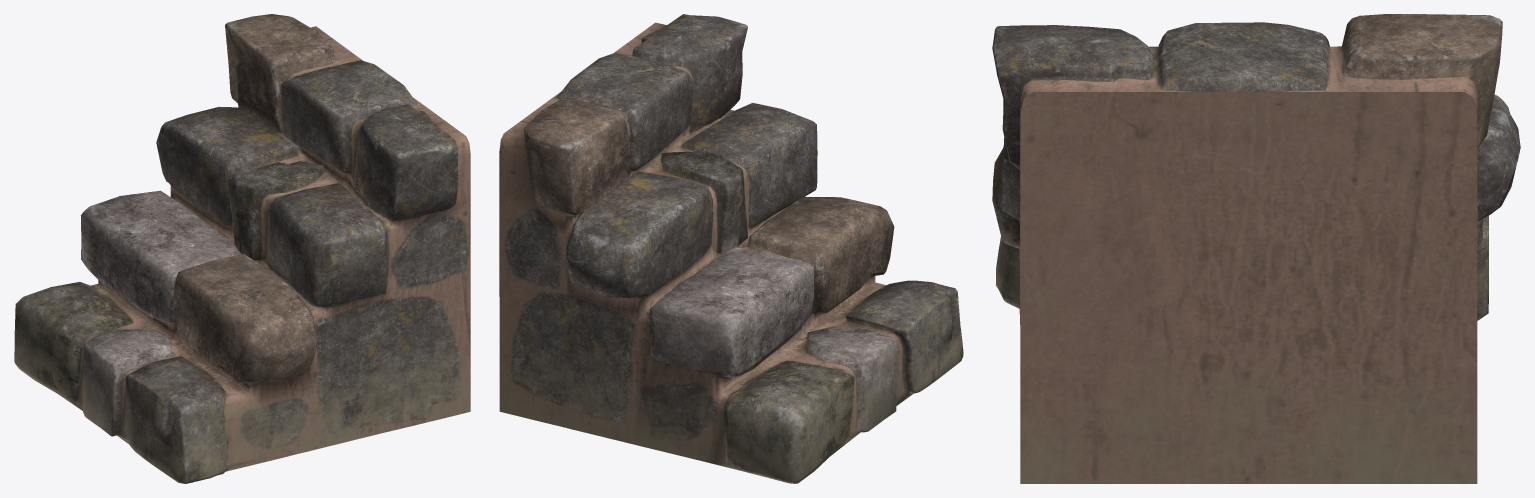
The model's file is SM_JWD_Stair.fbx.
The picture shows the model from 3 angles, left to right: view 1: azimuth 30°, elevation 25°; view 2: azimuth 150°, elevation 25°; view 3: azimuth 270°, elevation 25°; orthographic projection. The views are drawn at different scales.
Parts seen in each view (by area): view 1: SM_JWD_Stair; view 2: SM_JWD_Stair; view 3: SM_JWD_Stair.
Part boxes in pixels (<box>): SM_JWD_Stair: <box>14,14,470,483</box>; SM_JWD_Stair: <box>499,14,963,483</box>; SM_JWD_Stair: <box>992,14,1520,483</box>.
Bounding box in the file's own units: 103 × 110 × 95.38.
Materials: 1 (1 with a texture image).
